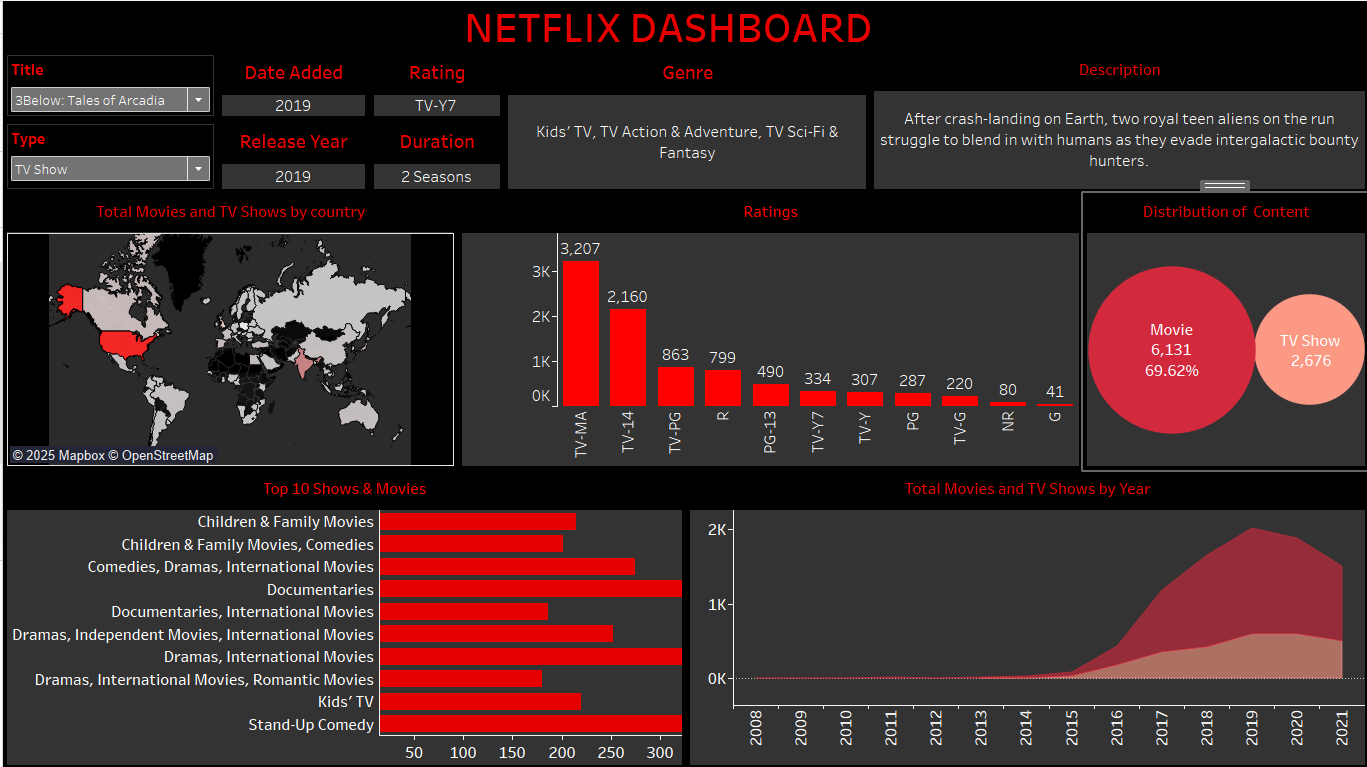

What the dashboard file says about the page in this screenshot:
{"tool":"tableau","page":{"name":"Dashboard 2","canvas":[1366,768],"ordinal":0},"visuals":[{"type":"text","box":[0,0,1329.6,49.9]},{"type":"filter","title":"Description","param":"[federated.0ty73t60uelg71187qehp1aap40x].[none:title:nk]","box":[0,49.9,215.1,69.1]},{"type":"worksheet","title":"Date Added","mark":"Automatic","box":[215.1,49.9,151.4,69.1]},{"type":"worksheet","title":"Rating","mark":"Automatic","box":[366.5,49.9,134.3,69.1]},{"type":"worksheet","title":"Genre","mark":"Automatic","box":[500.9,49.9,366.5,142.1]},{"type":"worksheet","title":"Description","mark":"Automatic","box":[867.4,49.9,498.6,142.1]},{"type":"filter","title":"Description","param":"[federated.0ty73t60uelg71187qehp1aap40x].[none:type:nk]","box":[0,119,215.1,73]},{"type":"worksheet","title":"Release Year","mark":"Automatic","box":[215.1,119,151.4,73]},{"type":"worksheet","title":"Duration","mark":"Automatic","box":[366.5,119,134.3,73]},{"type":"worksheet","title":"TotalByCountry","mark":"Multipolygon","box":[0,192,455.3,277]},{"type":"worksheet","title":"Ratings","mark":"Automatic","rows":["show_id"],"cols":["rating"],"box":[455.3,192,624.9,277]},{"type":"worksheet","title":"DistributionTV&Movies","mark":"Circle","box":[1080.3,192,285.7,277]},{"type":"worksheet","title":"Top10","mark":"Automatic","rows":["listed_in"],"cols":["show_id"],"box":[0,469,683,299]},{"type":"worksheet","title":"TotalByYear","mark":"Area","rows":["show_id"],"cols":["date_added"],"box":[683,469,683,299]}]}

Visuals, with their boxes in screenshot pixels (x1, y1, x2, y2), scaled from the page's 1366x768 canvas onto the 1367x767 screenshot:
text: crop(0, 0, 1331, 50)
"Description" filter: crop(0, 50, 215, 119)
"Date Added" worksheet: crop(215, 50, 367, 119)
"Rating" worksheet: crop(367, 50, 501, 119)
"Genre" worksheet: crop(501, 50, 868, 192)
"Description" worksheet: crop(868, 50, 1366, 192)
"Description" filter: crop(0, 119, 215, 192)
"Release Year" worksheet: crop(215, 119, 367, 192)
"Duration" worksheet: crop(367, 119, 501, 192)
"TotalByCountry" worksheet (Multipolygon marks): crop(0, 192, 456, 468)
"Ratings" worksheet: crop(456, 192, 1081, 468)
"DistributionTV&Movies" worksheet (Circle marks): crop(1081, 192, 1366, 468)
"Top10" worksheet: crop(0, 468, 684, 766)
"TotalByYear" worksheet (Area marks): crop(684, 468, 1366, 766)
